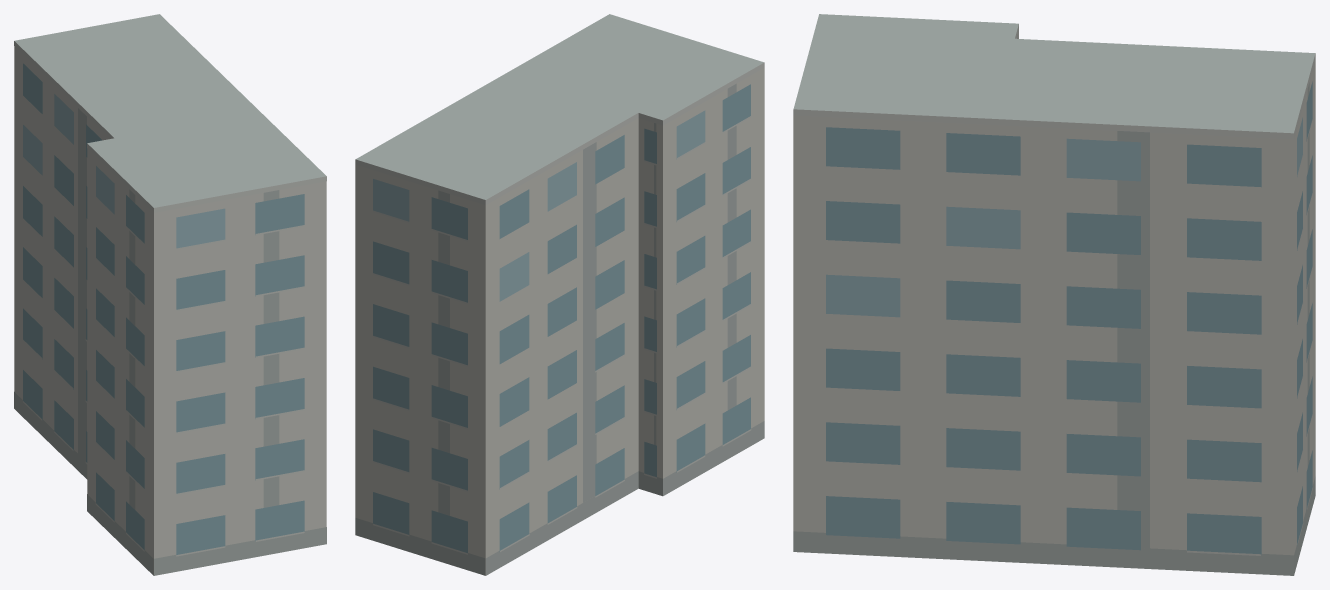
The model's file is survey-upis-32566848.glb.
3 renders of one model, left to right at view 1: azimuth 30°, elevation 25°; view 2: azimuth 150°, elevation 25°; view 3: azimuth 270°, elevation 25°, orthographic. The views are drawn at different scales.
Visible parts, largest first — view 1: survey-upis-32566848.tmp; view 2: survey-upis-32566848.tmp; view 3: survey-upis-32566848.tmp.
Part boxes in pixels (bbox=[...]): survey-upis-32566848.tmp: bbox=[14, 14, 326, 575]; survey-upis-32566848.tmp: bbox=[355, 14, 764, 575]; survey-upis-32566848.tmp: bbox=[793, 14, 1315, 575].
Bounding box in the file's own units: 10.33 × 17.85 × 19.09.
